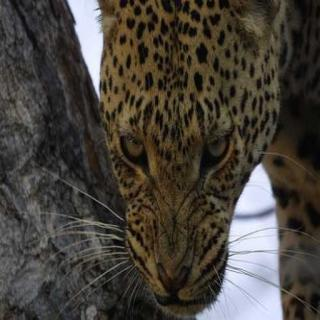Leopard: (103, 12, 320, 306)
